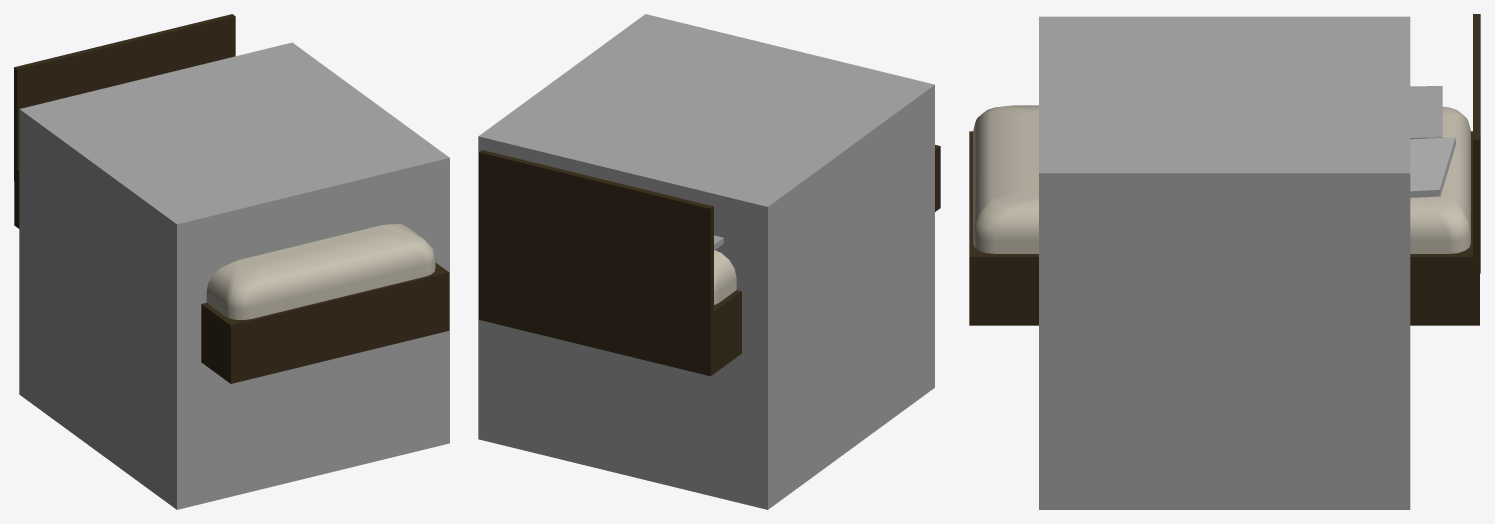
The model's file is bed.fbx.
The picture shows the model from 3 angles, left to right: view 1: azimuth 30°, elevation 25°; view 2: azimuth 150°, elevation 25°; view 3: azimuth 270°, elevation 25°; orthographic projection. The views are drawn at different scales.
Visible parts, largest first — view 1: pCube6, pCube1, pCube2, pCube3; view 2: pCube6, pCube3, pCube1, pCube2; view 3: pCube6, pCube2, pCube1, pCube5, pCube3, pCube4.
Part boxes in pixels (x1=…): pCube6: x1=19, y1=42, x2=449, y2=509; pCube1: x1=14, y1=167, x2=449, y2=383; pCube2: x1=206, y1=224, x2=435, y2=319; pCube3: x1=14, y1=14, x2=235, y2=182; pCube6: x1=478, y1=14, x2=934, y2=509; pCube3: x1=479, y1=150, x2=713, y2=329; pCube1: x1=479, y1=145, x2=940, y2=376; pCube2: x1=714, y1=250, x2=736, y2=304; pCube6: x1=1039, y1=16, x2=1410, y2=509; pCube2: x1=973, y1=105, x2=1470, y2=253; pCube1: x1=969, y1=131, x2=1479, y2=325; pCube5: x1=1410, y1=137, x2=1456, y2=197; pCube3: x1=1473, y1=14, x2=1480, y2=273; pCube4: x1=1410, y1=86, x2=1442, y2=139.
Size of the model in its own units: 1 by 1.05 by 1.38.
